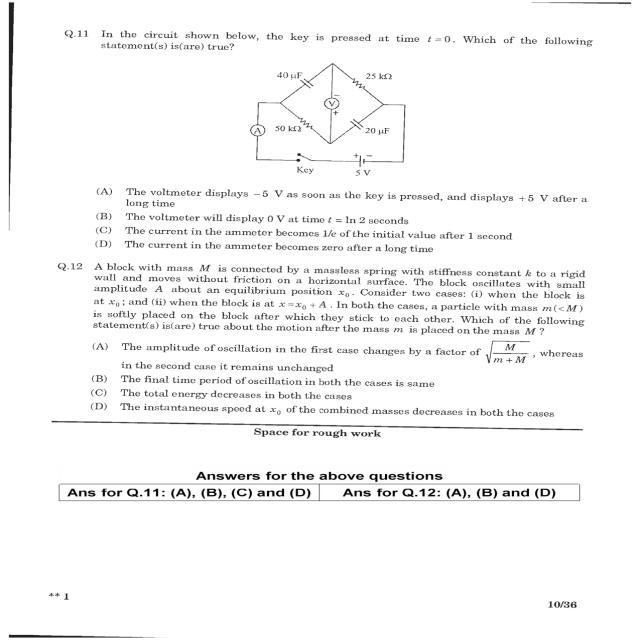Answer_Block: (19, 338, 628, 418), (22, 178, 630, 256)
Question_Answer_Block: (21, 23, 628, 256), (21, 259, 628, 420)
Question_Block: (23, 26, 628, 175), (23, 262, 626, 336)
Question_Paper_Area: (20, 10, 630, 552)
